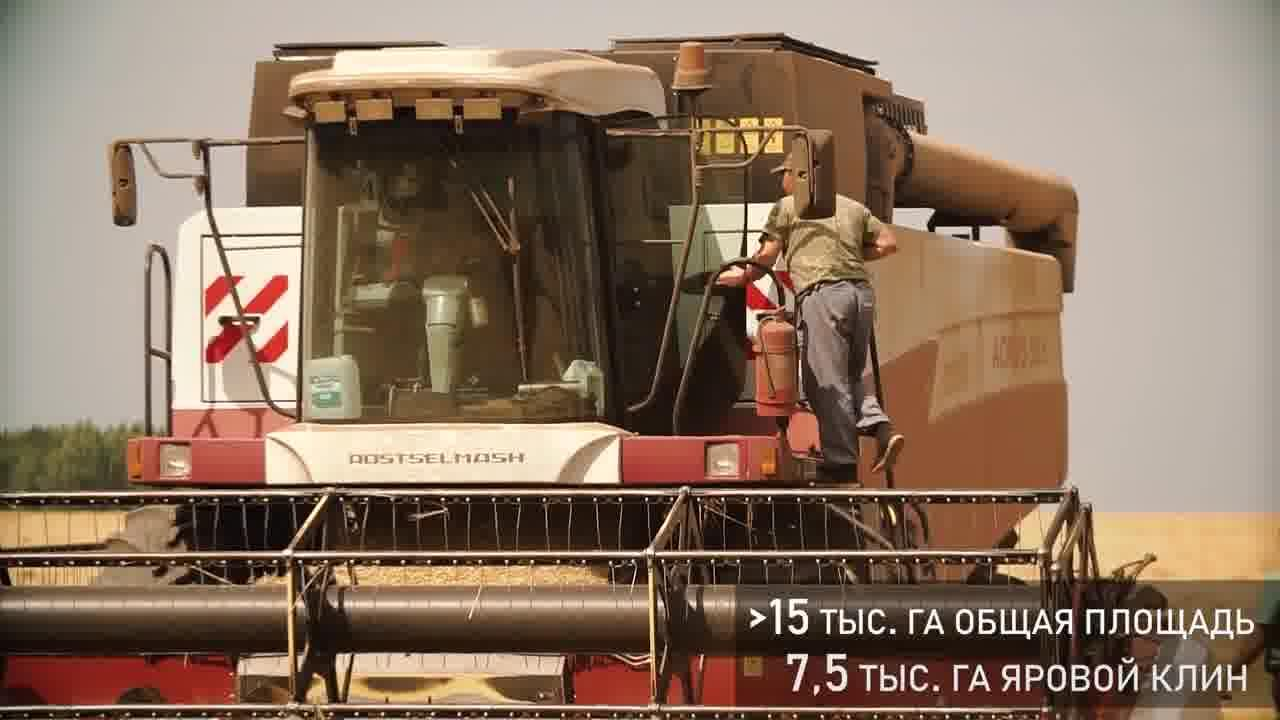combine harvester: (3, 25, 1241, 720)
